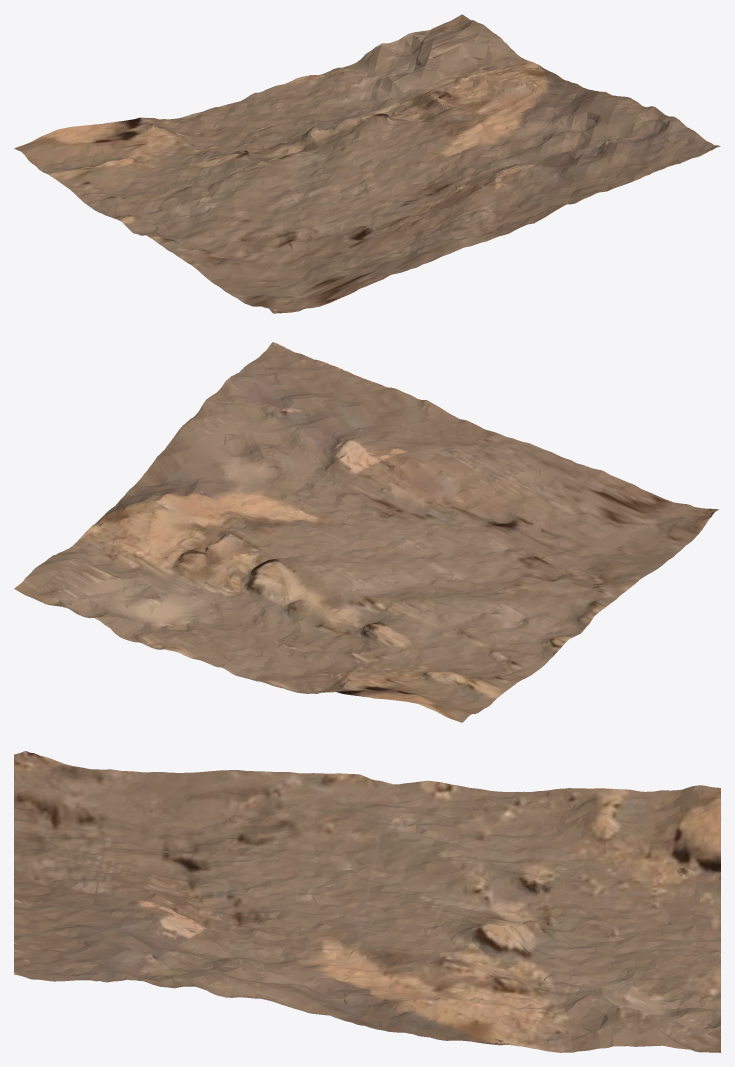
The picture shows the model from 3 angles, top to bottom: view 1: azimuth 30°, elevation 25°; view 2: azimuth 150°, elevation 25°; view 3: azimuth 270°, elevation 25°; orthographic projection. The views are drawn at different scales.
Bounding box in the file's own units: 2.09 × 0.4112 × 2.09.
2 materials, 2 textured.
